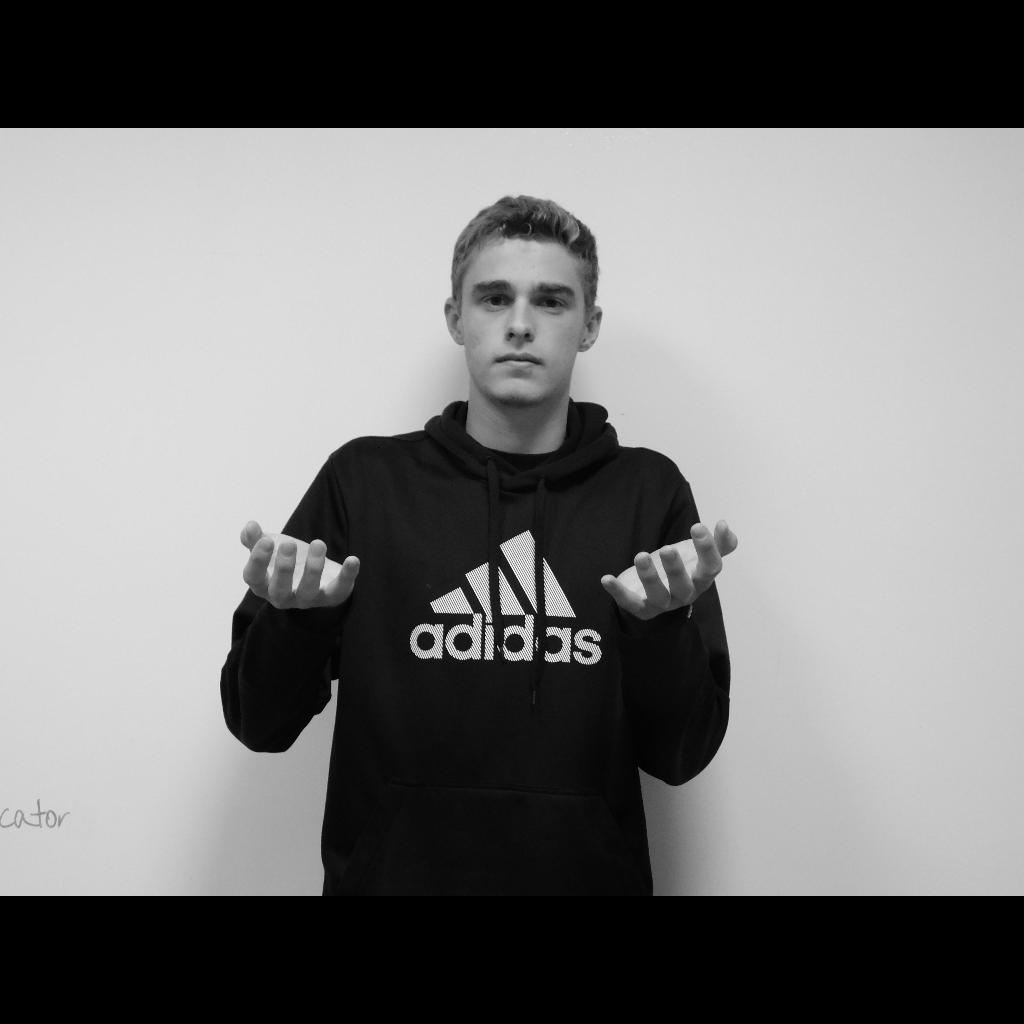want: (242, 518, 738, 618)
